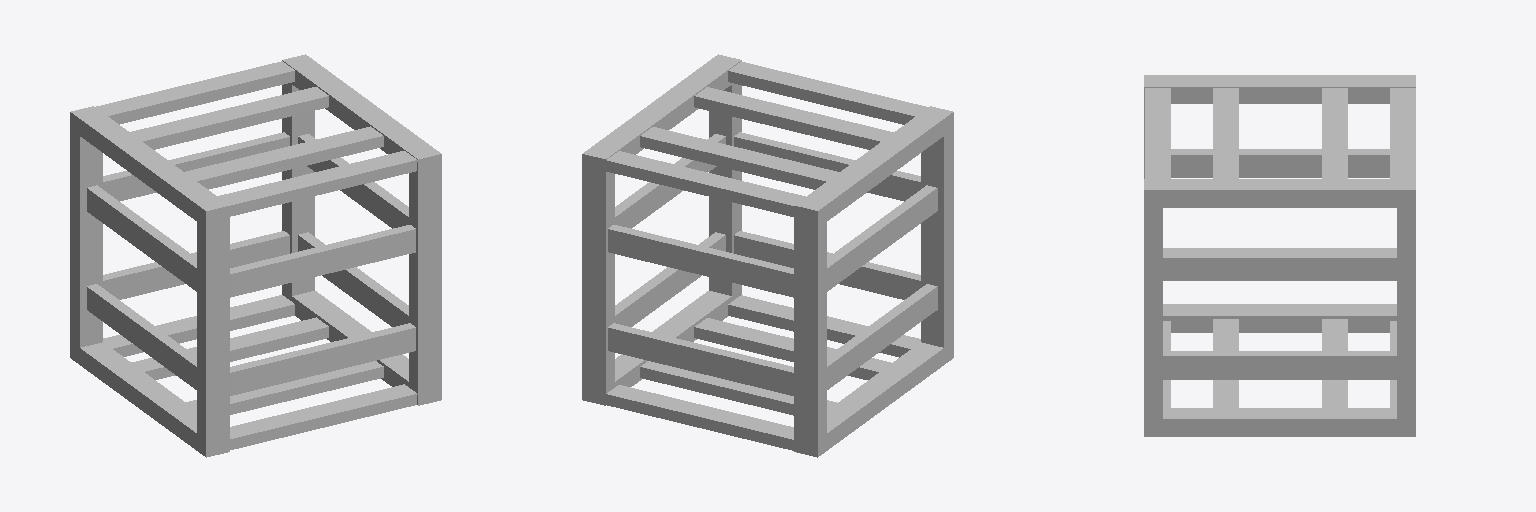
Rendered from woodsupportcube.obj.
3 renders of one model, left to right at view 1: azimuth 30°, elevation 25°; view 2: azimuth 150°, elevation 25°; view 3: azimuth 270°, elevation 25°, orthographic.
Parts seen in each view (by area): view 1: bedx+; view 2: bedx+; view 3: bedx+.
Part boxes in pixels (x1,y1,x2,y2): bedx+: (70,54,441,457); bedx+: (582,54,953,457); bedx+: (1144,75,1415,436).
Size of the model in its own units: 1 by 1 by 1.